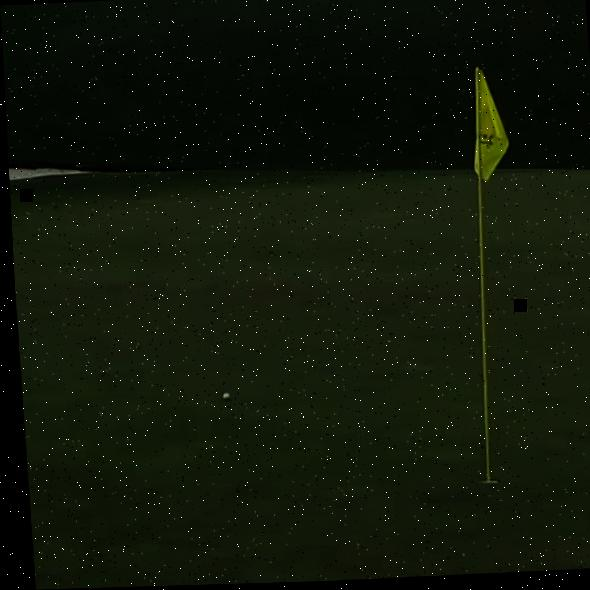GolfBall: (218, 394, 227, 401)
